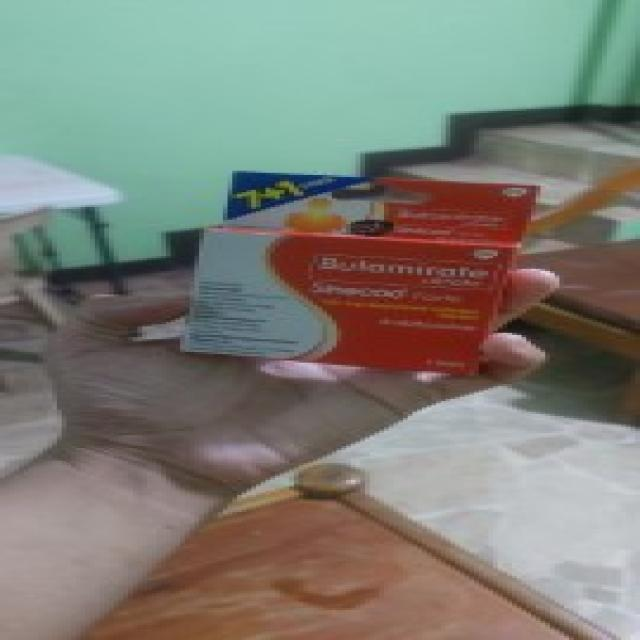Cacat: (173, 170, 542, 373)
